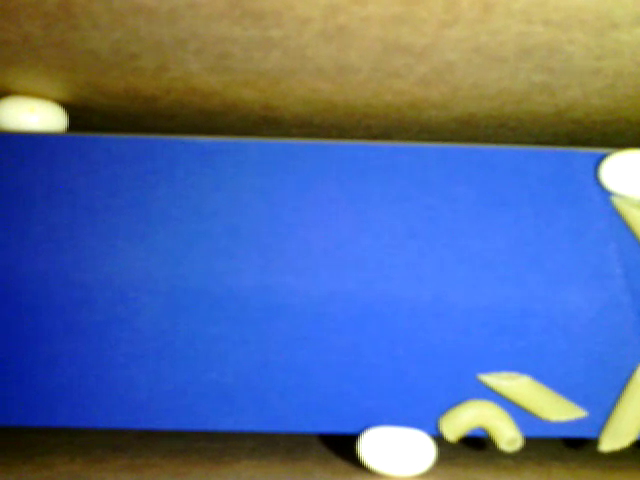elbow: (437, 398, 525, 452)
penne: (476, 371, 588, 423), (597, 363, 639, 453)
